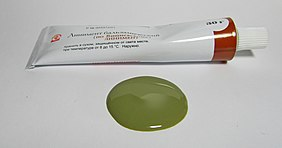Medicine: (24, 14, 270, 72)
